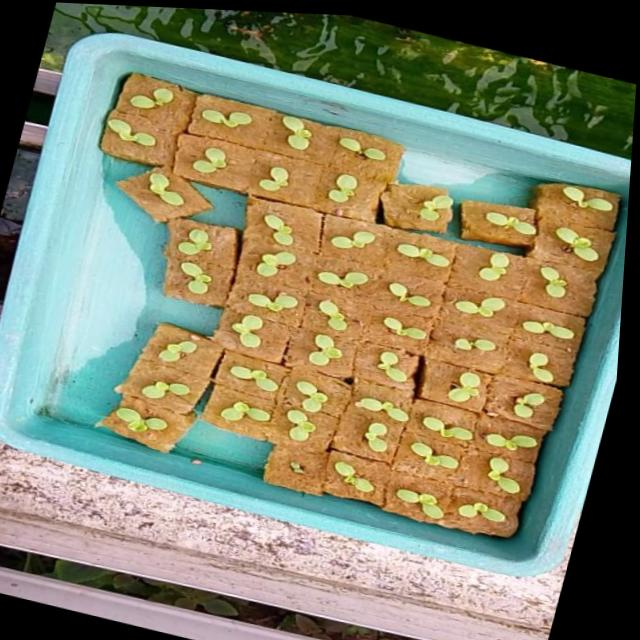Baby: (119, 82, 184, 118), (523, 258, 576, 301), (145, 170, 195, 215), (128, 112, 177, 150), (443, 335, 503, 363), (372, 350, 419, 384), (247, 284, 295, 317), (232, 363, 285, 392), (191, 105, 251, 130), (398, 489, 446, 520), (484, 433, 543, 457), (514, 393, 553, 429), (358, 398, 412, 423), (241, 251, 295, 276), (119, 404, 170, 430), (336, 461, 377, 492), (424, 417, 475, 440), (388, 281, 433, 307), (178, 220, 211, 255), (490, 458, 521, 494), (233, 314, 266, 347), (311, 333, 345, 365), (449, 373, 483, 404), (383, 316, 426, 340), (298, 380, 330, 412), (454, 297, 505, 317), (282, 116, 311, 151), (523, 320, 574, 339), (458, 502, 506, 522), (318, 299, 348, 330), (264, 212, 292, 245), (222, 404, 269, 423), (290, 408, 318, 439), (318, 271, 369, 288), (145, 378, 193, 396), (195, 149, 229, 174), (479, 253, 509, 281), (328, 174, 358, 202), (161, 339, 200, 360), (527, 353, 553, 384), (181, 268, 212, 294), (421, 449, 460, 469), (259, 166, 289, 191), (367, 423, 390, 453), (339, 231, 372, 248)
